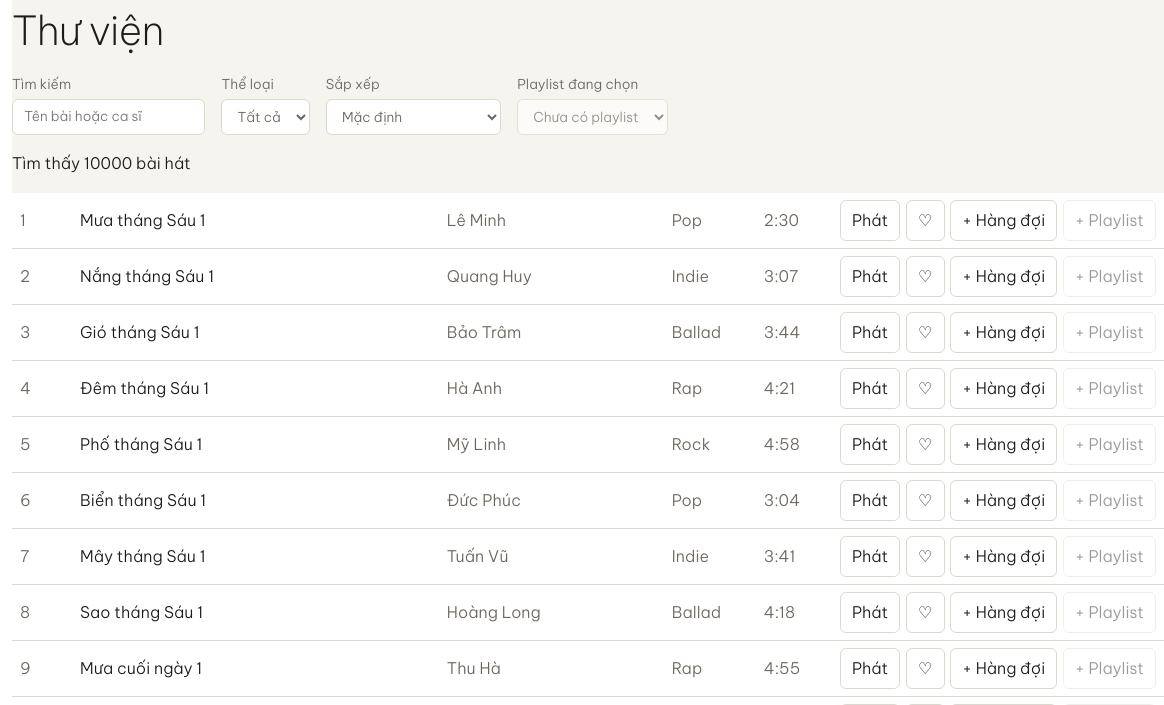
Test case: LibraryPage › lọc theo thể loại Rock ra 2000 bài
Select "Rock" in the dropdown labelled "Thể loại" at [266, 117], box [221,99,310,135]
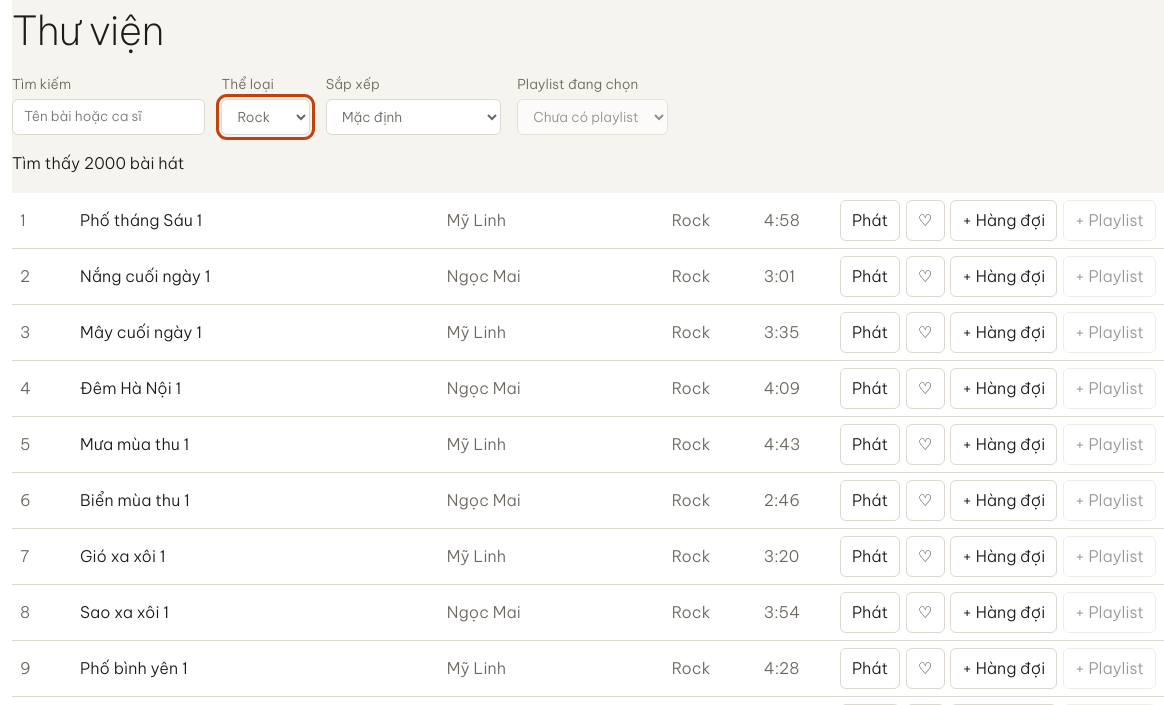
Check: the text "Tìm thấy 2000 bài hát" is shown, box [12,154,184,174]
